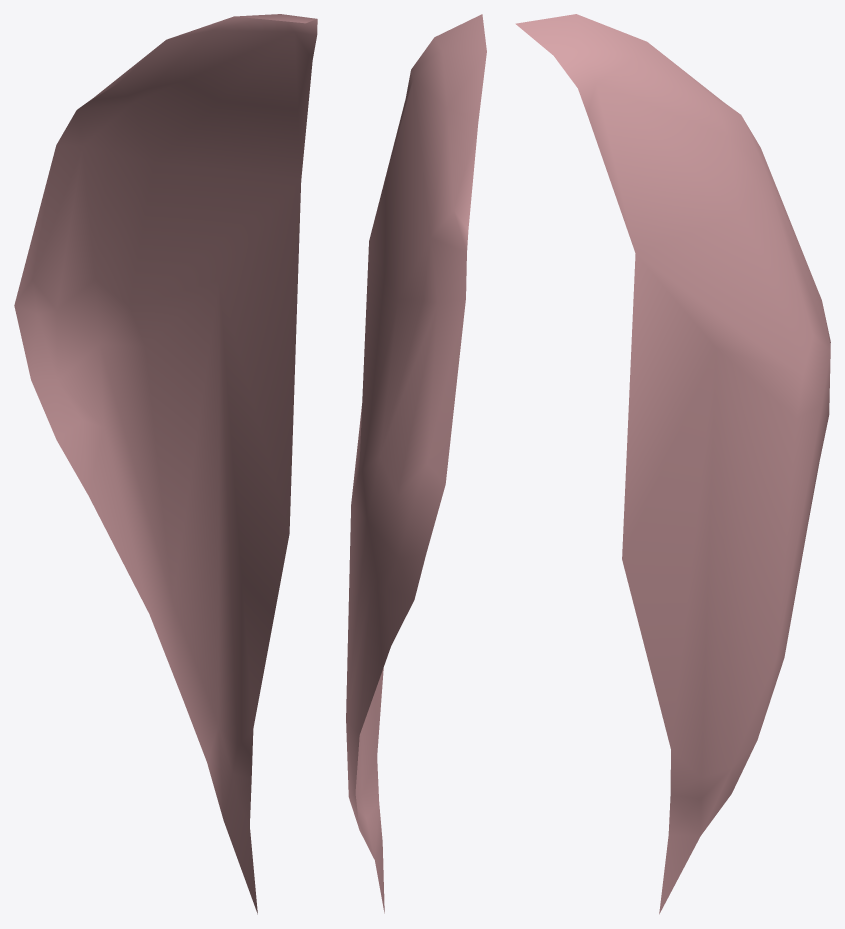
The picture shows the model from 3 angles, left to right: view 1: azimuth 30°, elevation 25°; view 2: azimuth 150°, elevation 25°; view 3: azimuth 270°, elevation 25°; orthographic projection. The views are drawn at different scales.
Parts seen in each view (by area): view 1: ZA_7d52893077d6a536; view 2: ZA_7d52893077d6a536; view 3: ZA_7d52893077d6a536.
Boxes of the visible parts, bbox=[...] form: ZA_7d52893077d6a536: bbox=[14, 14, 317, 914]; ZA_7d52893077d6a536: bbox=[346, 14, 486, 913]; ZA_7d52893077d6a536: bbox=[515, 14, 830, 914].
Size of the model in its own units: 0.00589 by 0.0289 by 0.00943.
